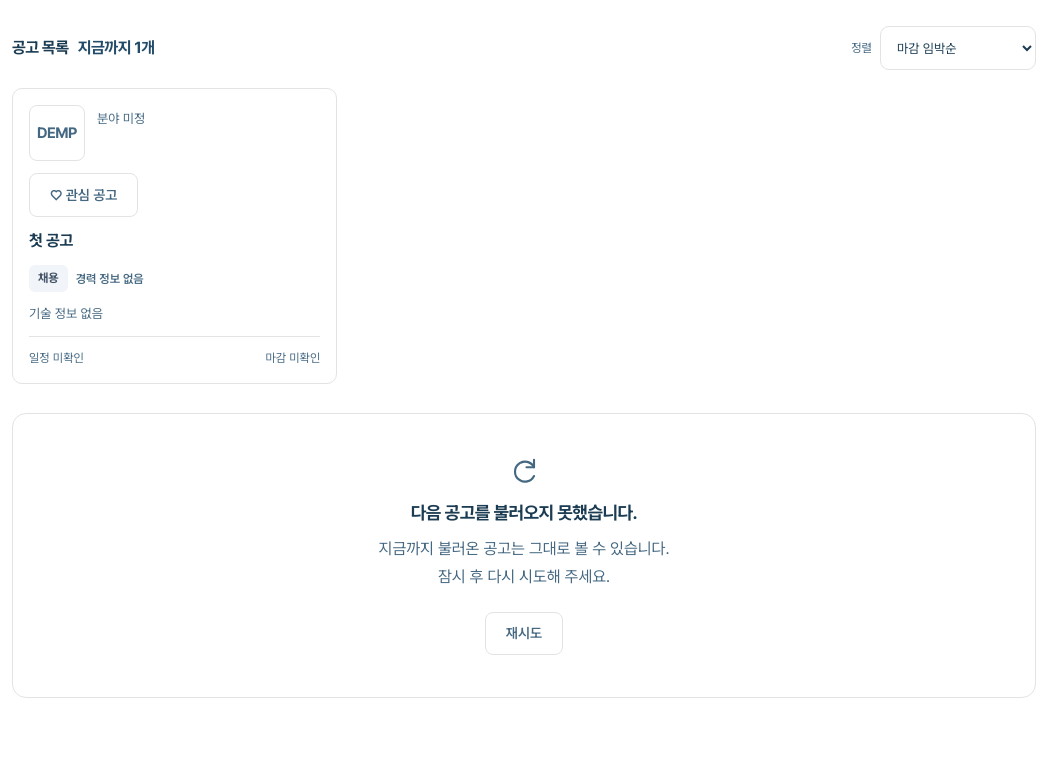
Test: 스크롤 요청 실패는 자동 반복하지 않고 재시도 버튼으로 같은 페이지를 다시 요청한다
This screenshot has width=1048, height=768.
Click the button with test id "retry": (524, 634) [485,612,563,655]
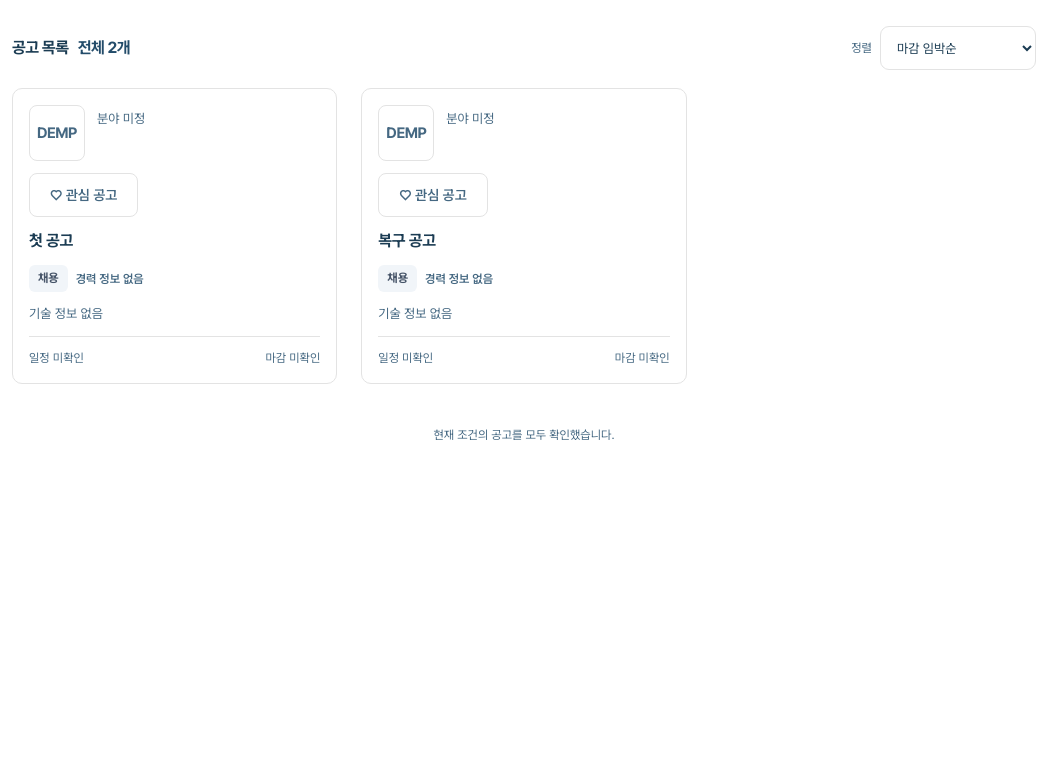
Result: the elements with class "notice-title" read "첫 공고", "복구 공고", in this order at [29,231,73,250]; [378,231,436,250]
